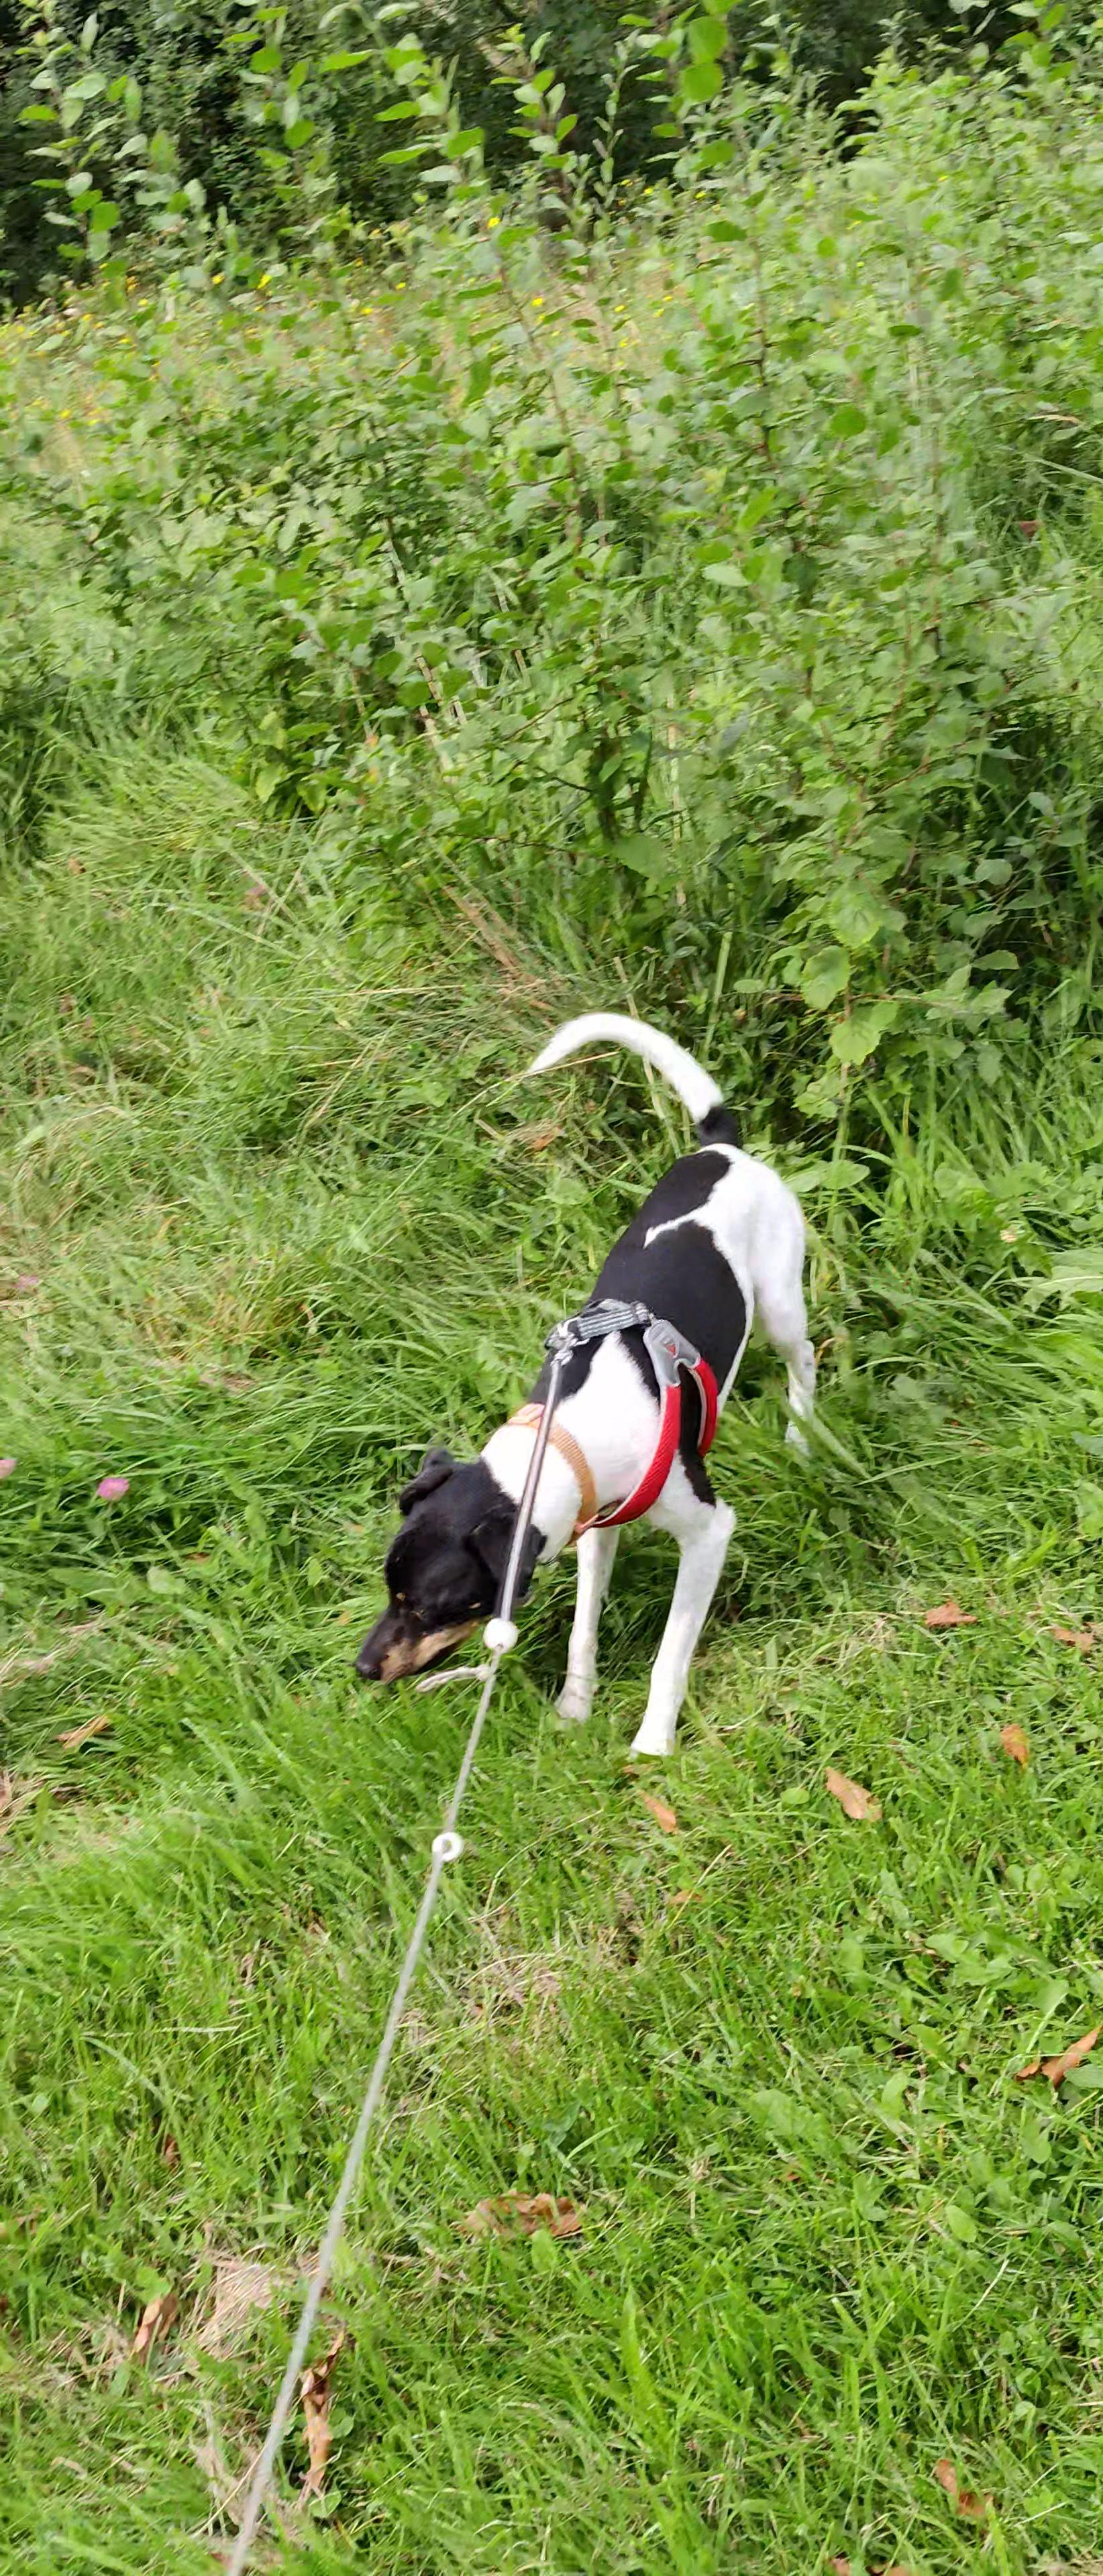Dog: (335, 1007, 835, 1763)
